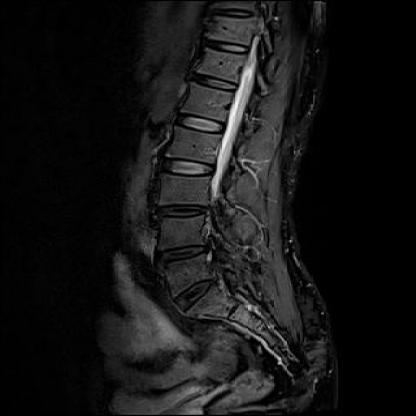Degenerative Disc Diseaserotation: (167, 280, 228, 310)
Disc Bulgerotation: (148, 240, 220, 269), (149, 199, 218, 224)
